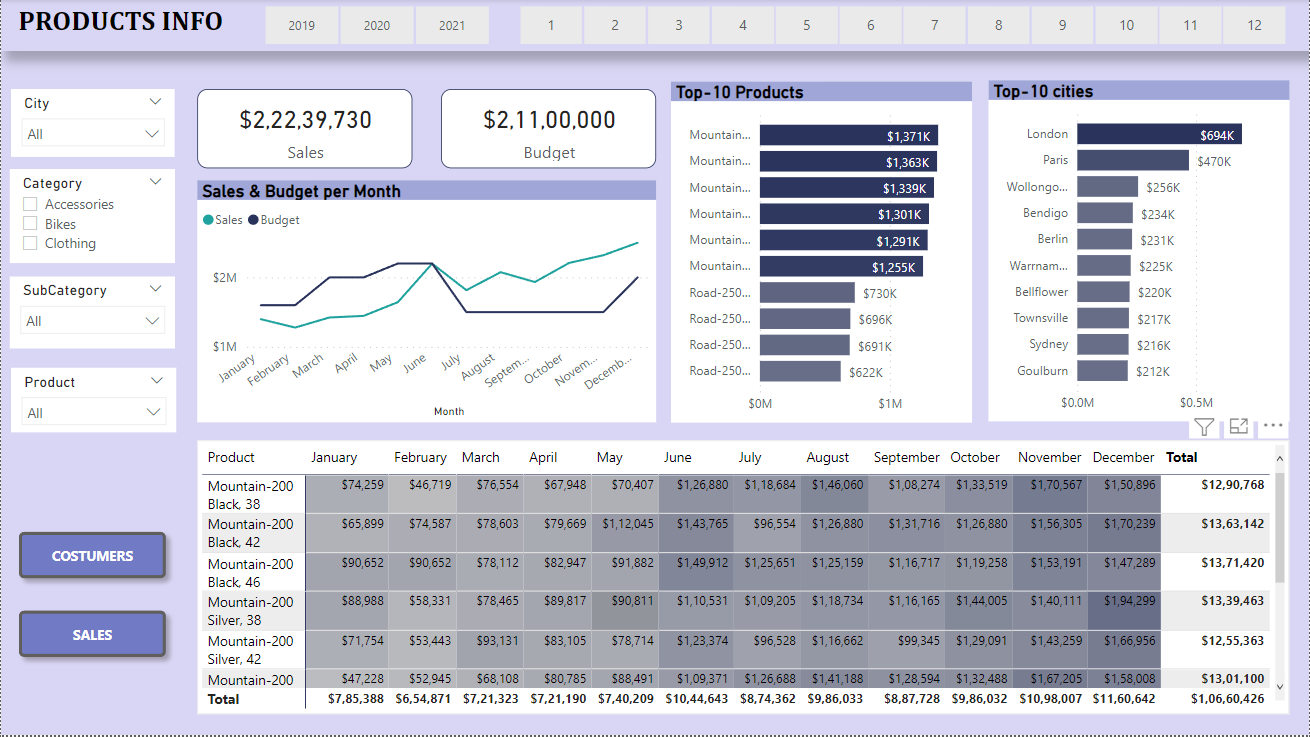

This screenshot's page, from the dashboard's own definition file:
{"tool":"powerbi","page":{"name":"PRODUCTS INFO","canvas":[1280,720],"ordinal":2},"visuals":[{"type":"textbox","box":[0,0,1279.9,51.3],"z":0},{"type":"slicer","fields":{"Values":["Product_Table.Category"]},"box":[8.7,165.9,161.6,92.3],"z":1000},{"type":"slicer","fields":{"Values":["Product_Table.SubCategory"]},"box":[8.7,271.3,161.6,70.7],"z":2000},{"type":"slicer","fields":{"Values":["Customer_Table.Customer_city"]},"box":[10.1,88,160.2,66.4],"z":3000},{"type":"slicer","fields":{"Values":["Product_Table.Product_Name"]},"box":[10.1,360.7,161.6,63.5],"z":4000},{"type":"slicer","fields":{"Values":["Date_Table.Year"]},"box":[232.3,0,268.9,51.3],"z":5000},{"type":"slicer","fields":{"Values":["Date_Table.MonthNo"]},"box":[481.6,0,798.2,51.3],"z":6000},{"type":"lineChart","title":"Sales & Budget per Month","fields":{"Y":["Medidas.Sales","Medidas.Budget_Sum"],"Category":["Date_Table.Date.Variación.Date Hierarchy.Month"]},"box":[191.9,177.5,448.7,236.6],"z":7000},{"type":"barChart","title":"Top-10 cities","fields":{"Y":["Medidas.Sales"],"Category":["Customer_Table.Customer_city"]},"box":[965.7,79.5,294.6,333.7],"z":8000},{"type":"actionButton","box":[8.7,512.2,161.6,63.5],"z":9000},{"type":"actionButton","box":[8.7,588.7,161.6,63.5],"z":10000},{"type":"card","fields":{"Values":["Sum(Budget.Budget)"]},"box":[430,88,210.7,77.9],"z":11000},{"type":"card","fields":{"Values":["Medidas.Sales"]},"box":[191.9,88,210.7,77.9],"z":12000},{"type":"pivotTable","fields":{"Values":["Medidas.Sales"],"Columns":["Date_Table.Date.Variación.Date Hierarchy.Month"],"Rows":["Product_Table.Product_Name"]},"box":[191.9,431.5,1068.4,267.7],"z":13000},{"type":"barChart","title":"Top-10 Products","fields":{"Y":["Medidas.Sales"],"Category":["Product_Table.Product_Name"]},"box":[655.1,80.8,294.3,333.3],"z":14000}]}

Visuals, with their boxes in screenshot pixels (x1, y1, x2, y2), scaled from the page's 1280x720 canvas onto the 1310x737 screenshot:
textbox: [x1=0, y1=0, x2=1309, y2=53]
slicer - Product_Table.Category: [x1=9, y1=170, x2=174, y2=264]
slicer - Product_Table.SubCategory: [x1=9, y1=278, x2=174, y2=350]
slicer - Customer_Table.Customer_city: [x1=10, y1=90, x2=174, y2=158]
slicer - Product_Table.Product_Name: [x1=10, y1=369, x2=176, y2=434]
slicer - Date_Table.Year: [x1=238, y1=0, x2=513, y2=53]
slicer - Date_Table.MonthNo: [x1=493, y1=0, x2=1309, y2=53]
"Sales & Budget per Month" lineChart: [x1=196, y1=182, x2=656, y2=424]
"Top-10 cities" barChart: [x1=988, y1=81, x2=1290, y2=423]
actionButton: [x1=9, y1=524, x2=174, y2=589]
actionButton: [x1=9, y1=603, x2=174, y2=668]
card - Sum(Budget.Budget): [x1=440, y1=90, x2=656, y2=170]
card - Medidas.Sales: [x1=196, y1=90, x2=412, y2=170]
pivotTable - Medidas.Sales x Date_Table.Date.Variación.Date Hierarchy.Month: [x1=196, y1=442, x2=1290, y2=716]
"Top-10 Products" barChart: [x1=670, y1=83, x2=972, y2=424]
